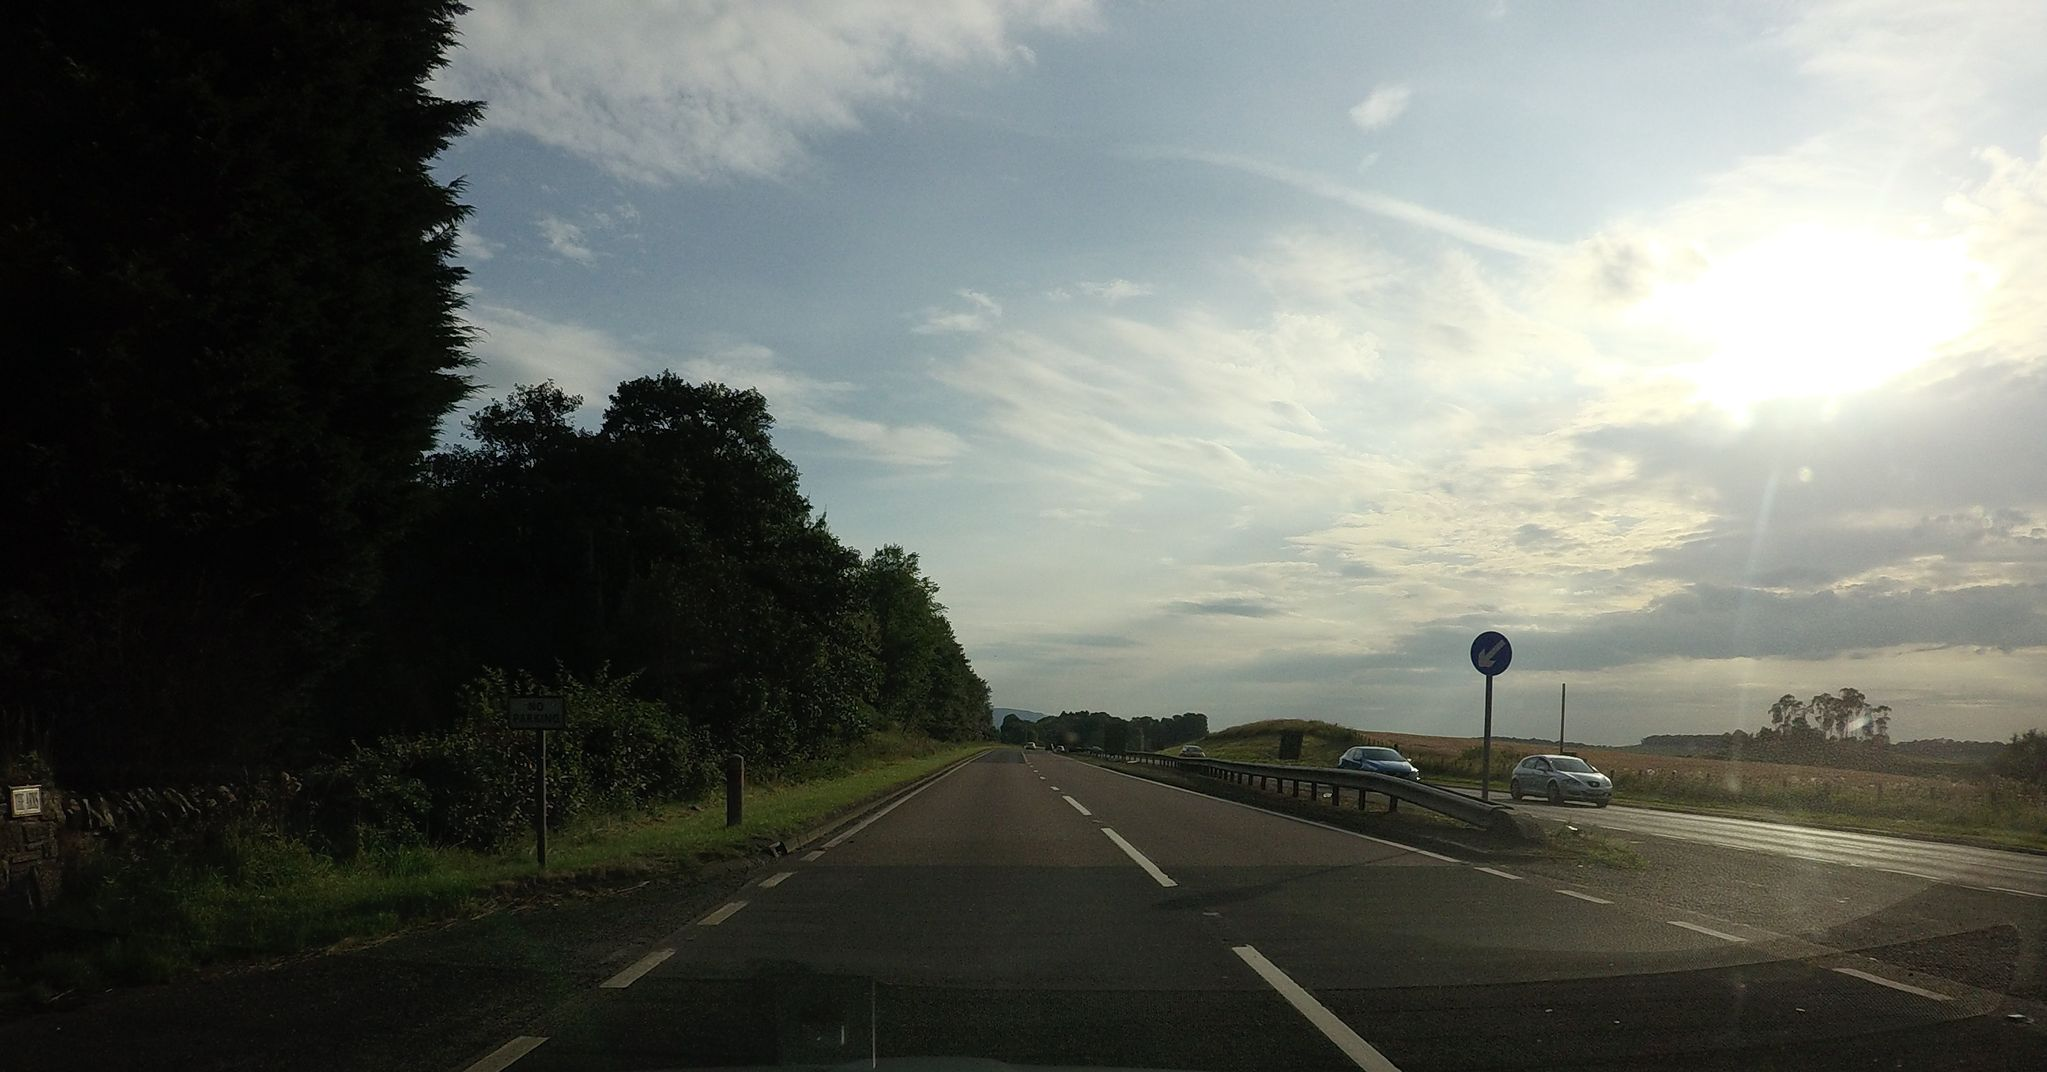car: (1510, 754, 1612, 807), (1336, 744, 1420, 782)
